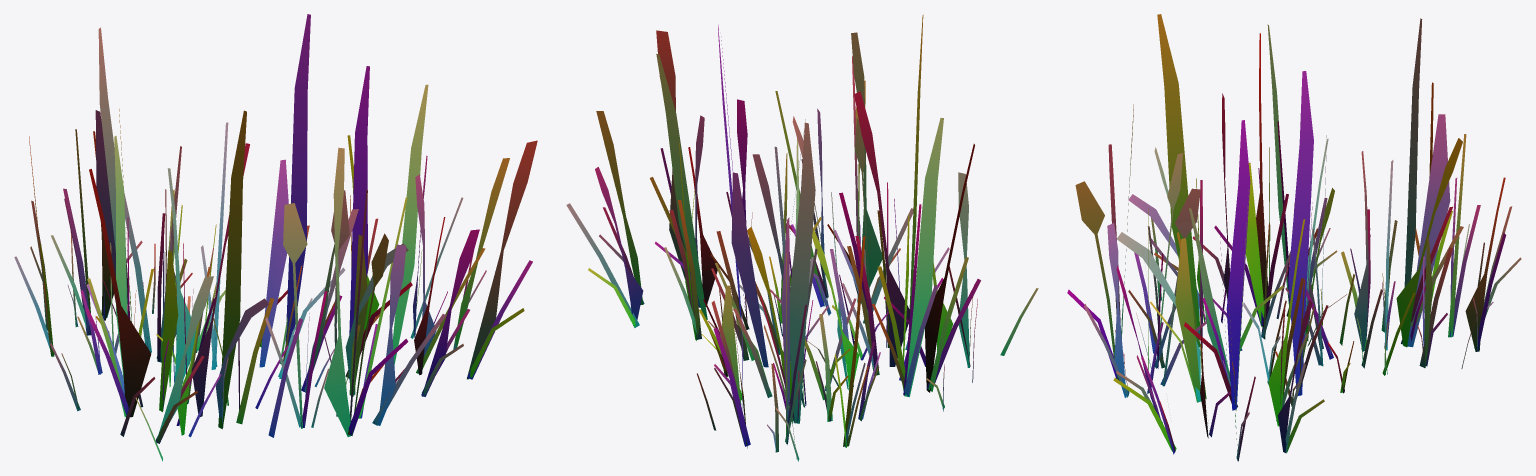
File: Nordic_Coastal_Groundcover_vlqkdeaja_Mid_vlqkdeaja_VarP_LOD1.fbx
3 renders of one model, left to right at view 1: azimuth 30°, elevation 25°; view 2: azimuth 150°, elevation 25°; view 3: azimuth 270°, elevation 25°, orthographic. The views are drawn at different scales.
Visible parts, largest first — view 1: _hv1t_VarP_LOD3; view 2: _hv1t_VarP_LOD3; view 3: _hv1t_VarP_LOD3.
Part boxes in pixels (<box>): _hv1t_VarP_LOD3: <box>14,14,537,461</box>; _hv1t_VarP_LOD3: <box>566,14,1038,461</box>; _hv1t_VarP_LOD3: <box>1067,14,1521,461</box>.
Bounding box in the file's own units: 98.09 × 77.44 × 94.22.
